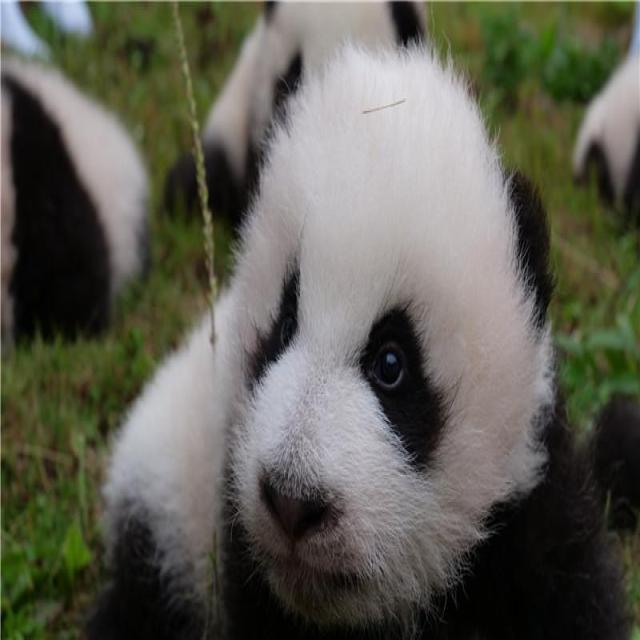panda: (91, 35, 630, 640)
